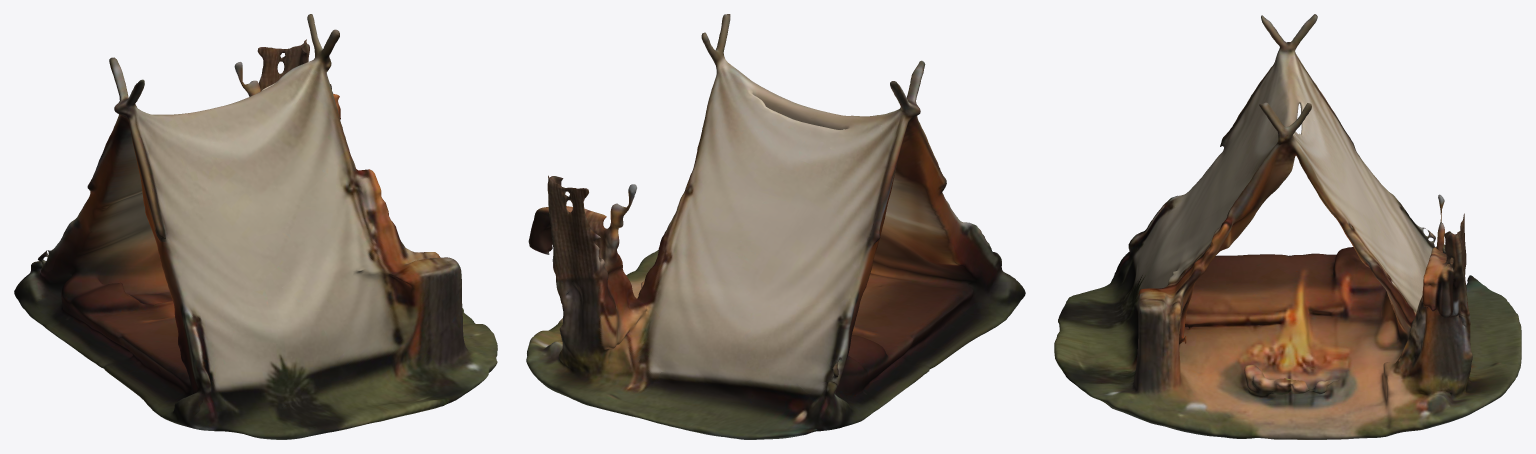
The model's file is forest_camp.glb.
3 renders of one model, left to right at view 1: azimuth 30°, elevation 25°; view 2: azimuth 150°, elevation 25°; view 3: azimuth 270°, elevation 25°, orthographic. The views are drawn at different scales.
Visible parts, largest first — view 1: tripo_node_58fa1354-73b1-4998-ad34-041d1a944cd2; view 2: tripo_node_58fa1354-73b1-4998-ad34-041d1a944cd2; view 3: tripo_node_58fa1354-73b1-4998-ad34-041d1a944cd2.
Boxes of the visible parts, x1,y1,x2,y2 form: tripo_node_58fa1354-73b1-4998-ad34-041d1a944cd2: [14, 14, 497, 439]; tripo_node_58fa1354-73b1-4998-ad34-041d1a944cd2: [526, 14, 1025, 439]; tripo_node_58fa1354-73b1-4998-ad34-041d1a944cd2: [1054, 14, 1521, 439].
Size of the model in its own units: 0.5653 by 0.5376 by 0.7107.
Materials: 1 (1 with a texture image).
